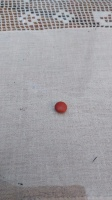Dolorex: (54, 101, 68, 114)
